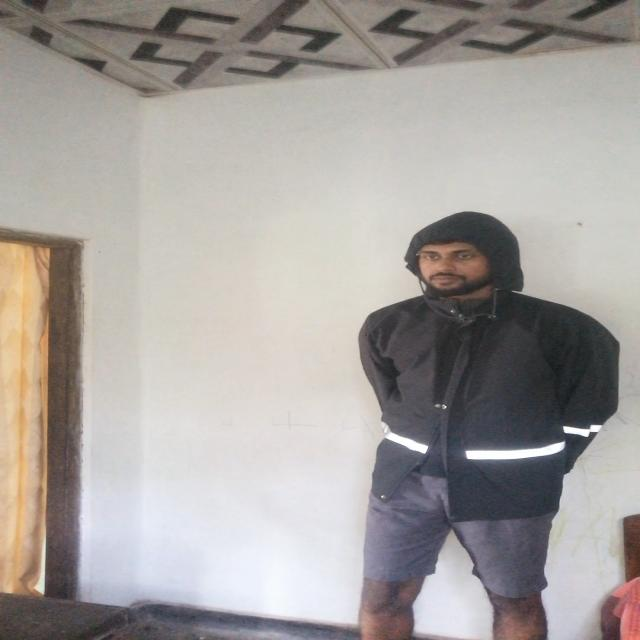Jacket_Wearer: (342, 208, 622, 504)
